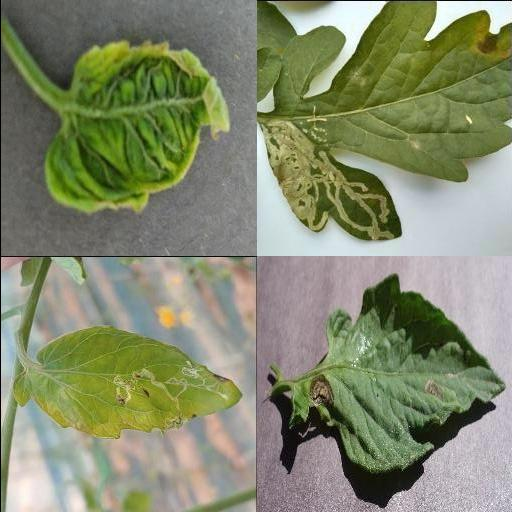Early Blight: (289, 276, 505, 470)
Leaf Miner: (256, 0, 512, 241), (12, 325, 242, 439)
Yellow Leaf Curl Virus: (43, 39, 231, 217)
